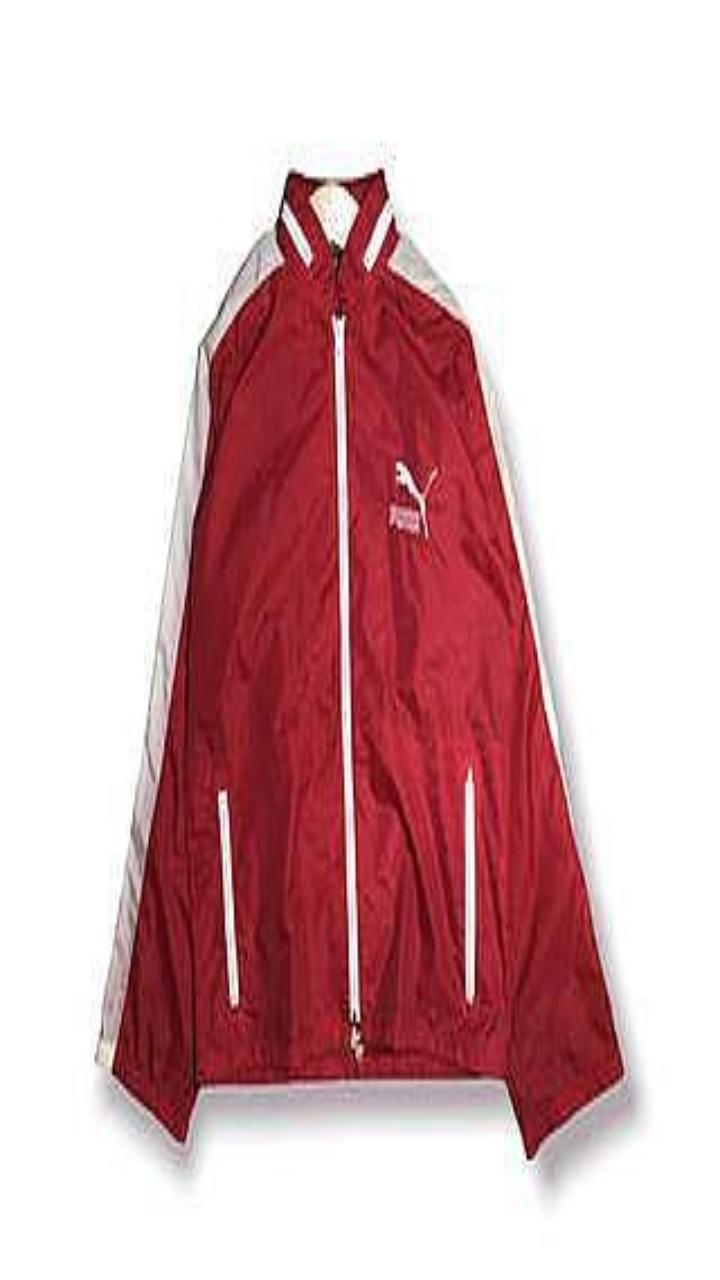Sports_Jacket: (98, 172, 622, 1155)
